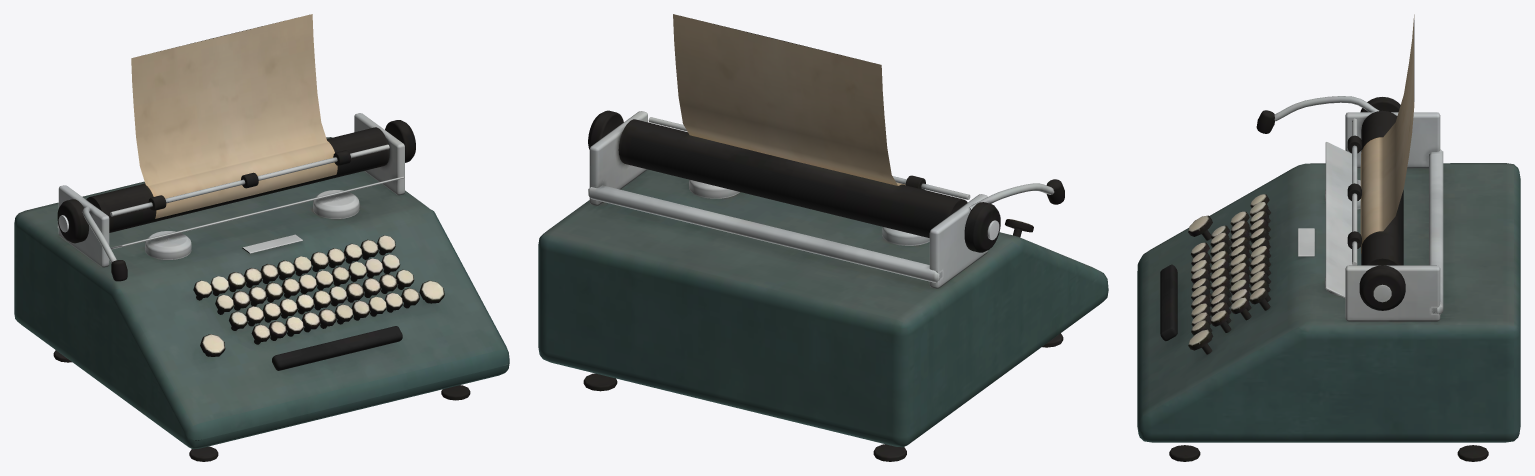
The model's file is typewriter.glb.
3 renders of one model, left to right at view 1: azimuth 30°, elevation 25°; view 2: azimuth 150°, elevation 25°; view 3: azimuth 270°, elevation 25°, orthographic. The views are drawn at different scales.
Visible parts, largest first — view 1: housing, carriage, spacebar, return_lever; view 2: housing, carriage, return_lever; view 3: housing, carriage, spacebar, return_lever.
Part boxes in pixels (x1,y1,x2,y2): housing: (14,137,509,461); carriage: (57,14,415,267); spacebar: (272,326,402,370); return_lever: (82,206,127,281); housing: (538,169,1108,461); carriage: (588,14,1000,288); return_lever: (969,179,1064,209); housing: (1137,163,1520,461); carriage: (1325,14,1443,321); spacebar: (1160,264,1177,341); return_lever: (1256,96,1379,133).
Size of the model in its own units: 0.421 by 0.3531 by 0.372.
1 material, 1 textured.
